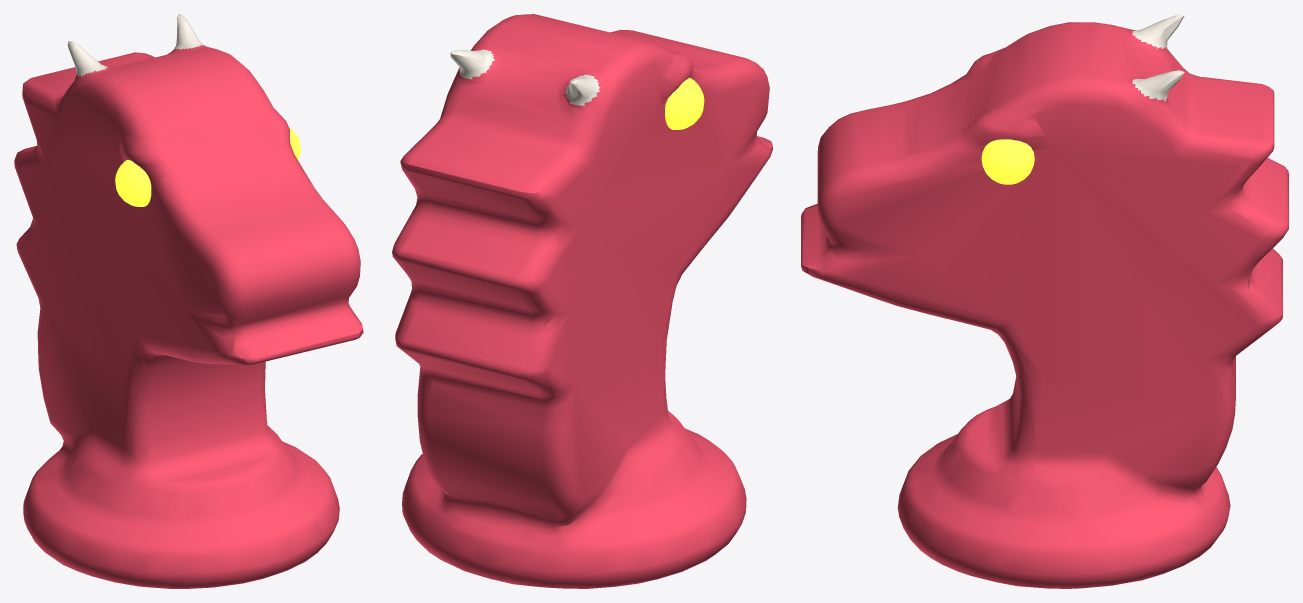
Rendered from dragon-low.glb.
3 views of the same model, side by side, from view 1: azimuth 30°, elevation 25°; view 2: azimuth 150°, elevation 25°; view 3: azimuth 270°, elevation 25° (orthographic). The views are drawn at different scales.
Visible parts, largest first — view 1: dragon-low; view 2: dragon-low; view 3: dragon-low.
Boxes of the visible parts, <box> form: dragon-low: <box>14,14,363,588</box>; dragon-low: <box>392,14,772,588</box>; dragon-low: <box>801,14,1288,588</box>.
Bounding box in the file's own units: 0.7149 × 1.14 × 1.05.
